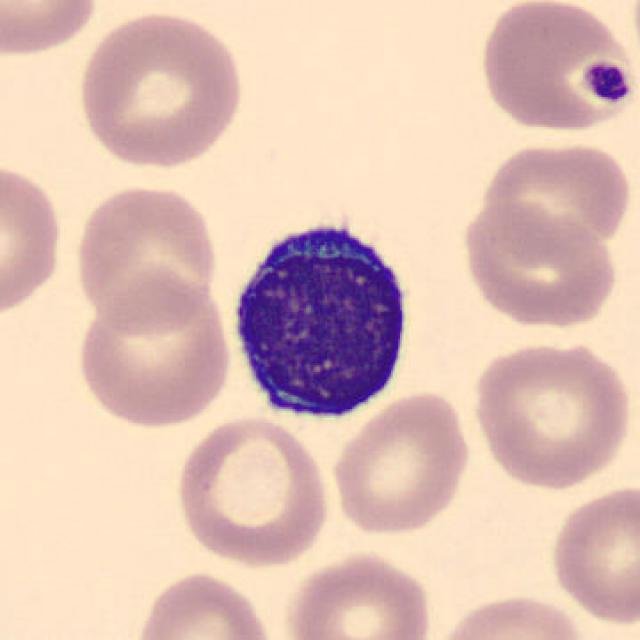Lymphocyte: (220, 203, 422, 428)
Platelets: (581, 58, 635, 106)
RBC: (73, 5, 249, 173), (468, 335, 634, 494), (71, 275, 237, 432), (170, 412, 332, 570), (70, 180, 222, 335), (473, 0, 640, 138), (327, 388, 475, 538), (457, 199, 622, 330), (469, 136, 636, 261), (281, 548, 435, 640), (546, 480, 638, 628), (0, 155, 66, 325), (129, 567, 277, 640), (427, 589, 590, 640), (0, 0, 101, 60)
